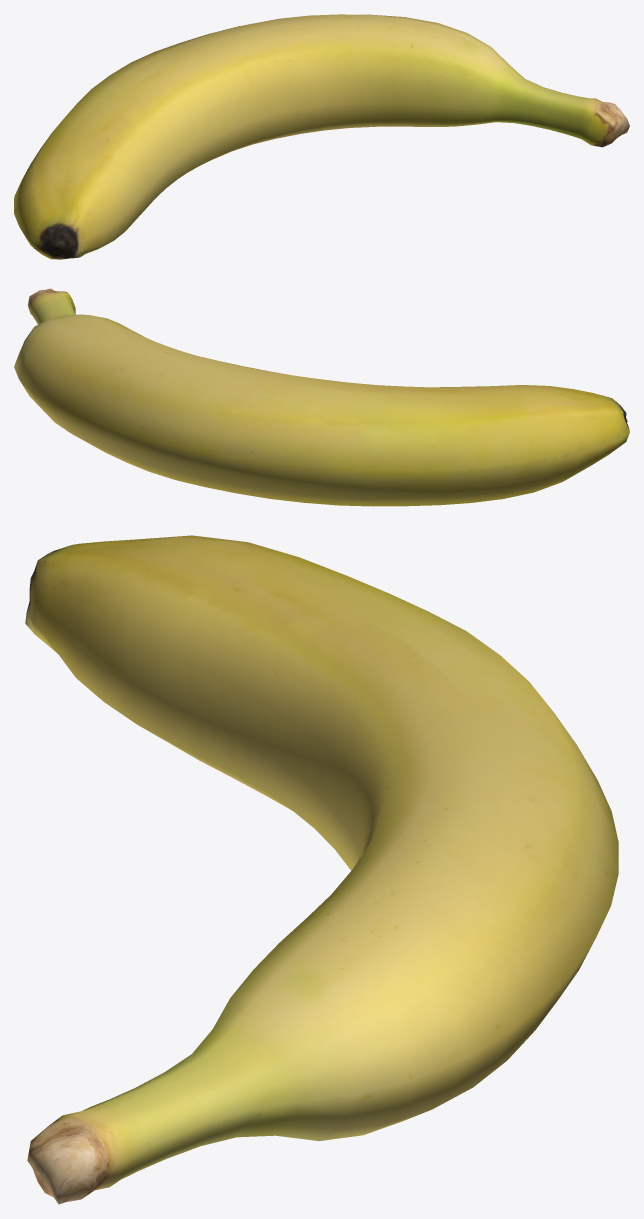
The model's file is banana.glb.
The picture shows the model from 3 angles, top to bottom: view 1: azimuth 30°, elevation 25°; view 2: azimuth 150°, elevation 25°; view 3: azimuth 270°, elevation 25°; orthographic projection. The views are drawn at different scales.
Visible parts, largest first — view 1: Banana_#_Whole_Root_1; view 2: Banana_#_Whole_Root_1; view 3: Banana_#_Whole_Root_1.
Boxes of the visible parts, x1=… form: Banana_#_Whole_Root_1: x1=14, y1=14, x2=629, y2=259; Banana_#_Whole_Root_1: x1=14, y1=288, x2=629, y2=506; Banana_#_Whole_Root_1: x1=25, y1=535, x2=618, y2=1204.
Bounding box in the file's own units: 0.1947 × 0.0344 × 0.0847.
1 material, 1 textured.
